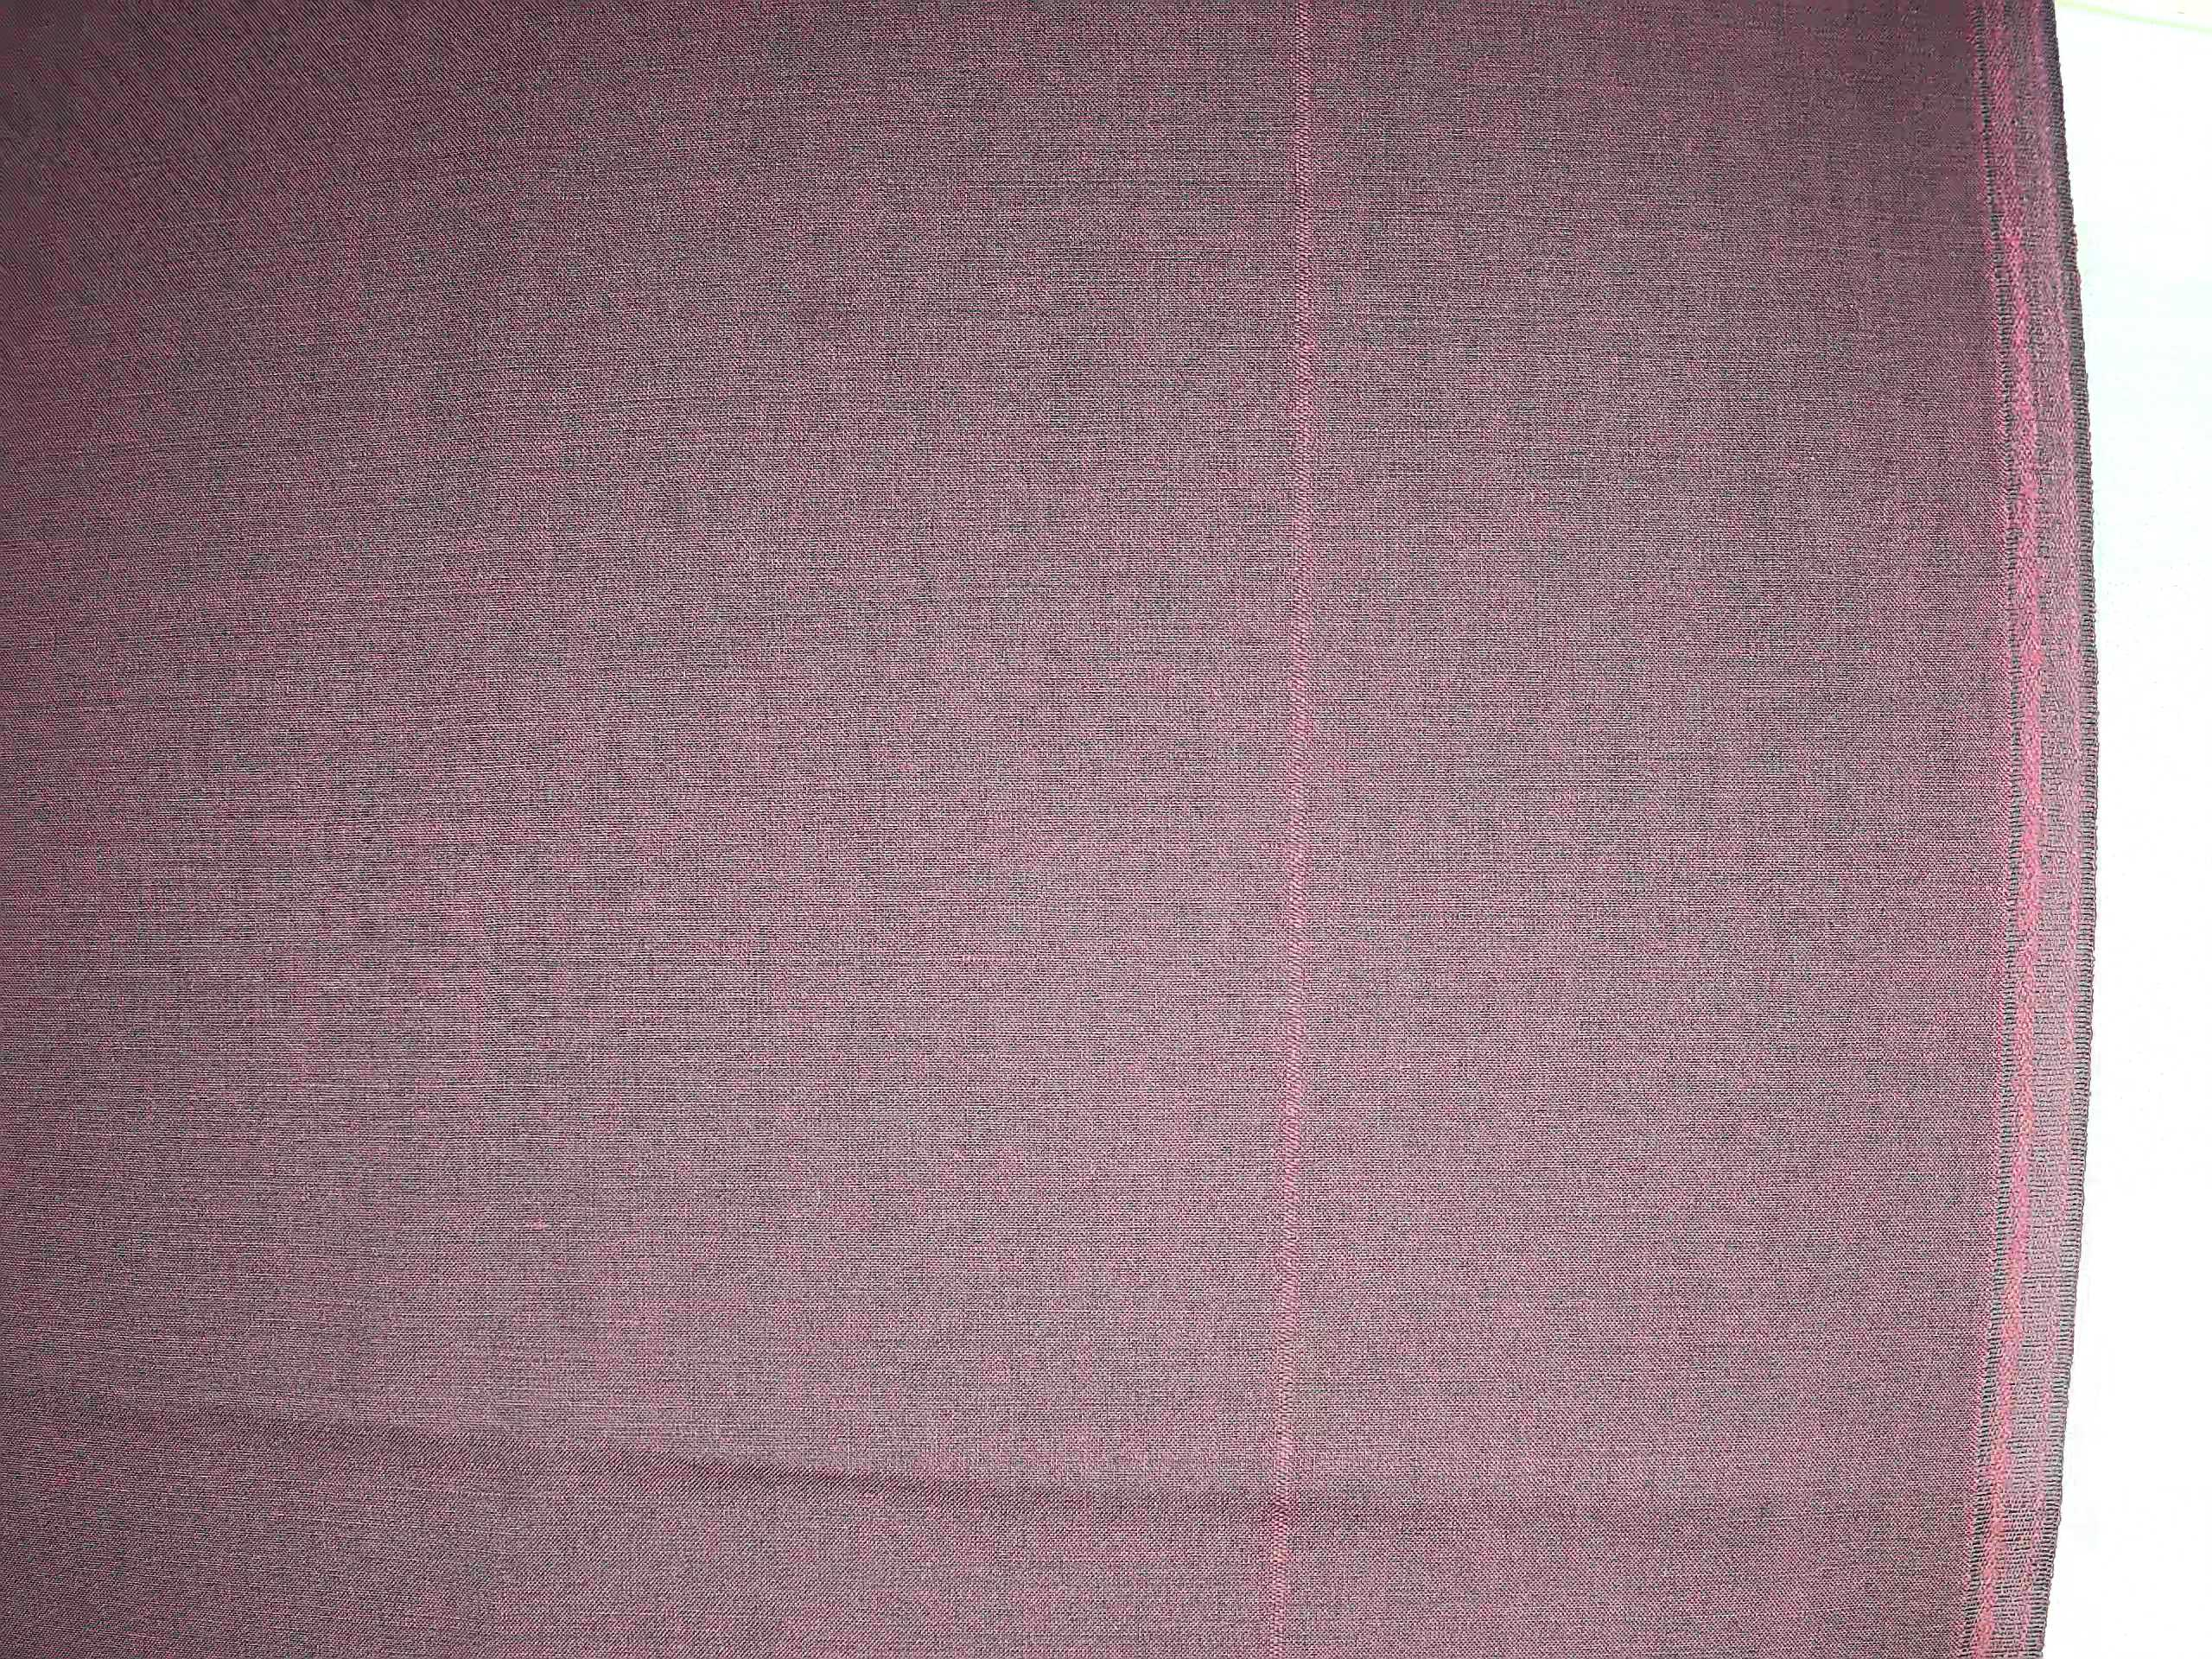lacking-warp: (1268, 7, 1322, 1659)
